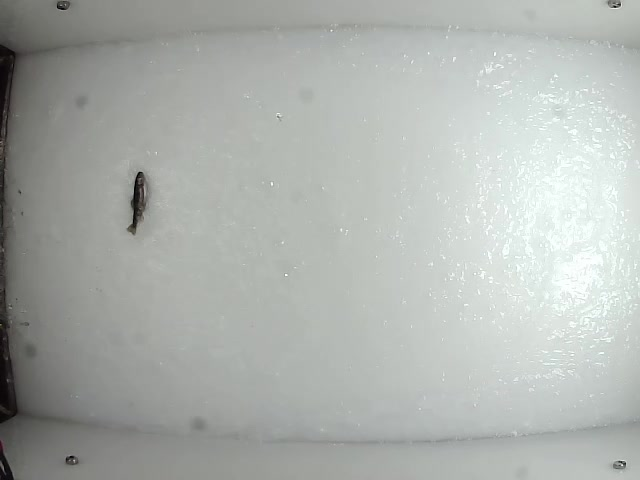fish: (124, 169, 148, 236)
